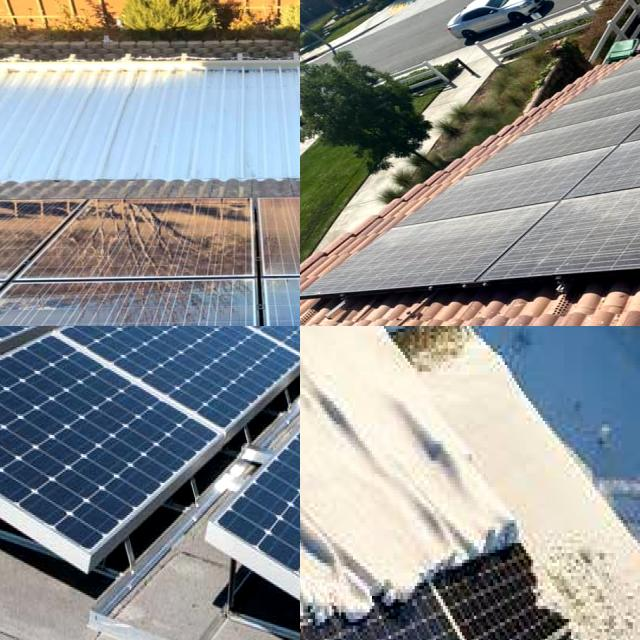crack: (27, 326, 300, 450), (13, 194, 300, 290), (173, 326, 300, 401), (235, 190, 300, 291)
dust: (381, 187, 549, 277), (524, 106, 602, 192), (549, 200, 640, 252), (613, 64, 640, 95)
panel: (337, 550, 499, 627), (300, 498, 383, 634), (300, 337, 368, 494), (394, 474, 520, 554), (519, 530, 558, 640), (300, 326, 351, 385), (556, 601, 626, 640)
